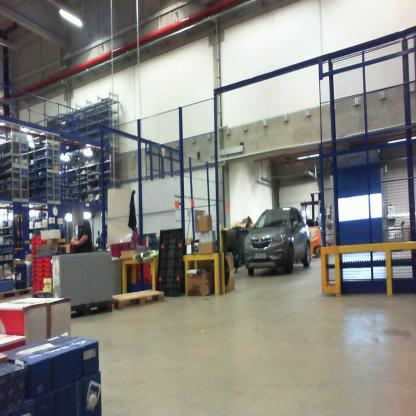forklift: (295, 181, 328, 259)
pallet: (110, 285, 165, 312), (1, 283, 37, 307)
small_load_carrier: (129, 253, 159, 286), (30, 277, 51, 291), (31, 262, 53, 268), (31, 272, 52, 277), (32, 257, 53, 262), (32, 249, 43, 257), (30, 236, 47, 241), (32, 268, 52, 272), (31, 241, 47, 245), (31, 245, 43, 249)
